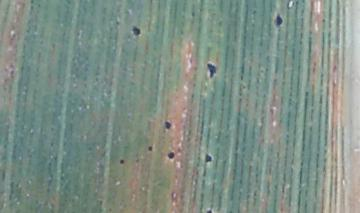tarspot: (205, 61, 217, 80), (273, 10, 283, 30), (130, 25, 141, 37), (203, 152, 213, 164), (163, 120, 173, 131), (166, 151, 175, 160), (190, 9, 196, 19), (146, 145, 154, 152), (118, 158, 125, 165), (251, 8, 257, 16), (49, 140, 55, 148), (29, 4, 34, 12), (204, 208, 212, 213), (320, 17, 326, 23), (49, 126, 54, 132), (28, 1, 36, 4)
